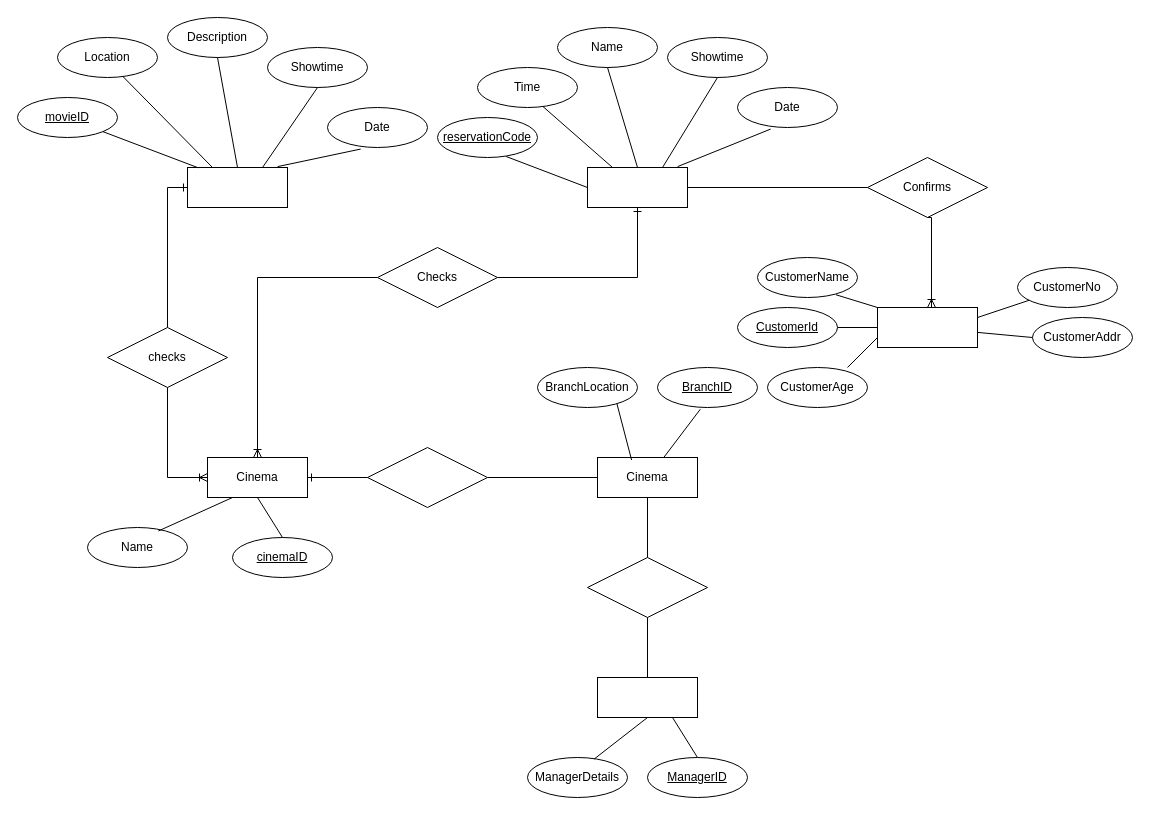
Image size: 1150x815. Some labels were removed from this diagram. The centre of each missing label's shape, as x and y in pixels:
Customer: point 927,327
has: point 427,477
Manager: point 647,697
Manages: point 647,587
Movie: point 237,187
Reservation: point 637,187
